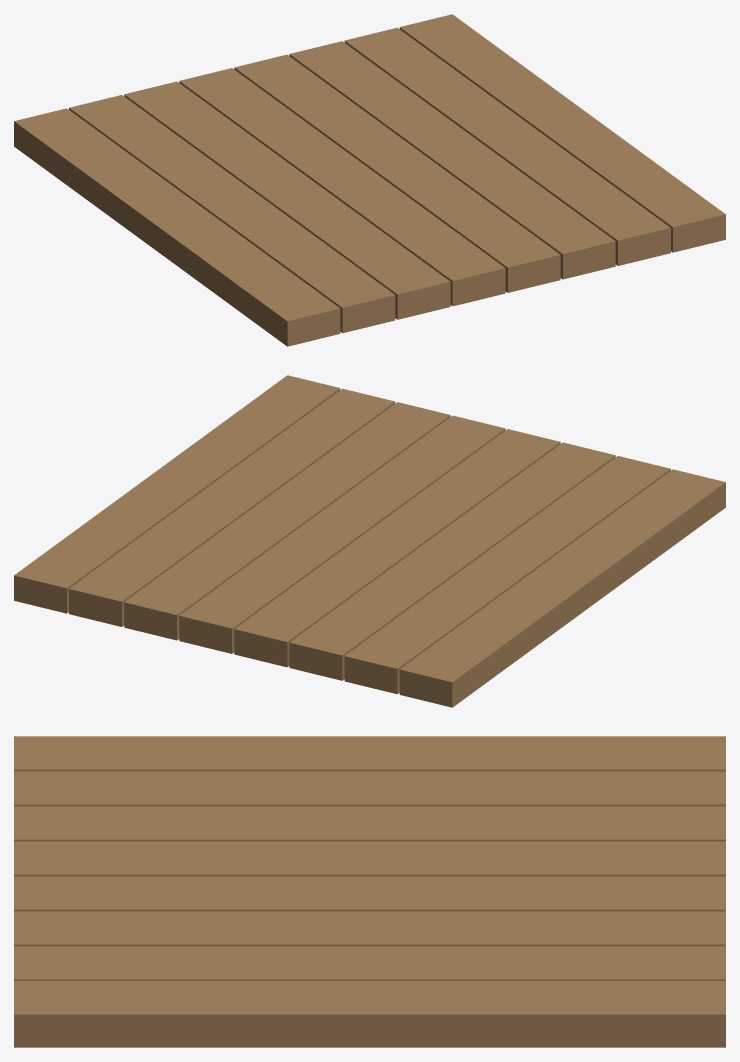
Rendered from campaign_roof.glb.
3 renders of one model, top to bottom at view 1: azimuth 30°, elevation 25°; view 2: azimuth 150°, elevation 25°; view 3: azimuth 270°, elevation 25°, orthographic. The views are drawn at different scales.
Parts seen in each view (by area): view 1: campaign_roof; view 2: campaign_roof; view 3: campaign_roof.
Part boxes in pixels (bbox=[...]): campaign_roof: bbox=[14, 14, 725, 346]; campaign_roof: bbox=[14, 375, 725, 707]; campaign_roof: bbox=[14, 736, 725, 1047].
Bounding box in the file's own units: 1.99 × 0.11 × 2.15.
